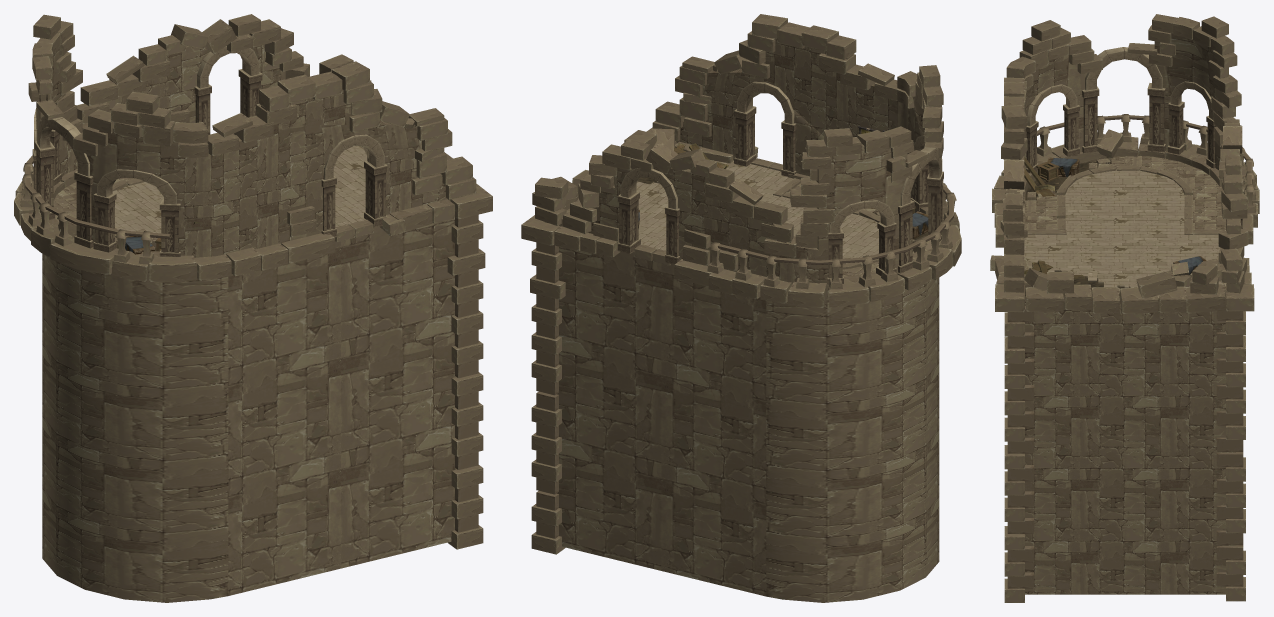
File: bfcs_yuantai_03.FBX
3 renders of one model, left to right at view 1: azimuth 30°, elevation 25°; view 2: azimuth 150°, elevation 25°; view 3: azimuth 270°, elevation 25°, orthographic. The views are drawn at different scales.
Visible parts, largest first — view 1: bfcs_yuantai_03; view 2: bfcs_yuantai_03; view 3: bfcs_yuantai_03.
Part boxes in pixels (left/top/right/bottom): bfcs_yuantai_03: left=14, top=14, right=492, bottom=602; bfcs_yuantai_03: left=521, top=14, right=961, bottom=602; bfcs_yuantai_03: left=990, top=14, right=1259, bottom=602.
Size of the model in its own units: 727 by 926 by 507.
